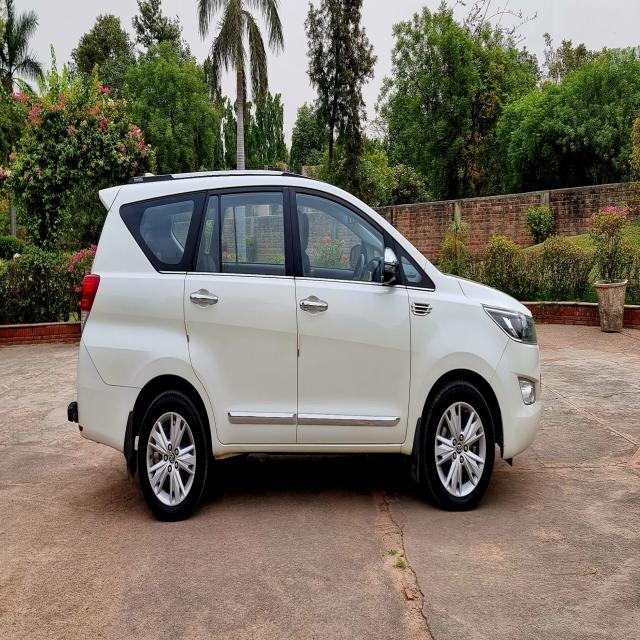light_vehicle: (68, 167, 542, 521)
